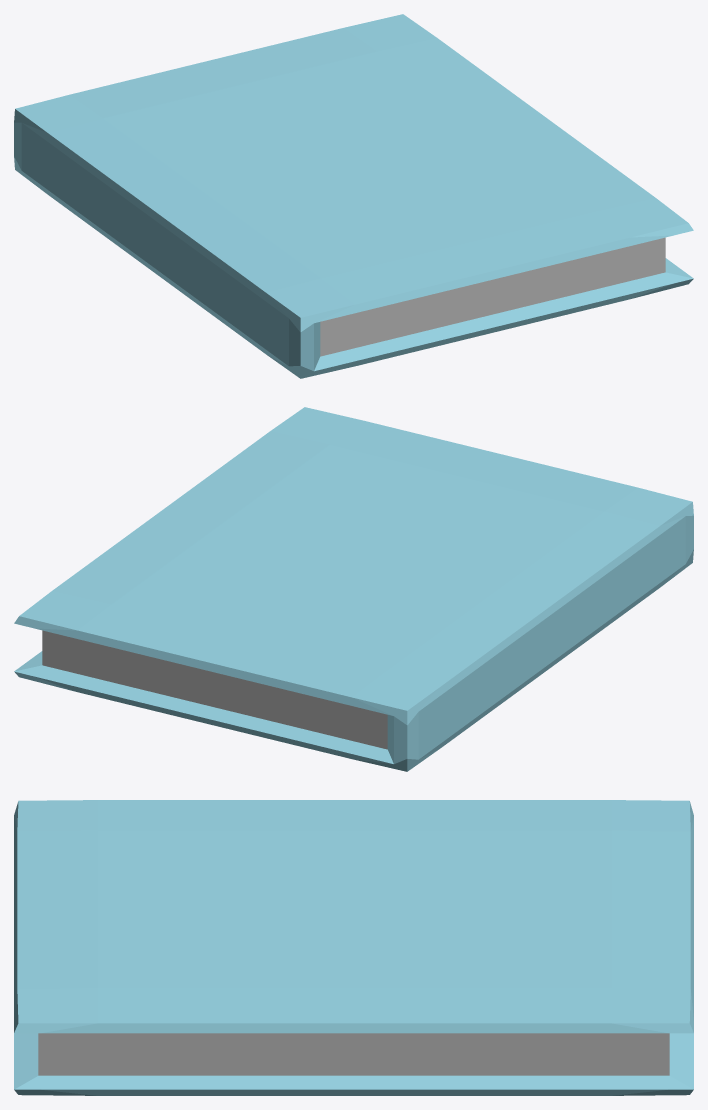
The model's file is BookVar1.fbx.
3 renders of one model, top to bottom at view 1: azimuth 30°, elevation 25°; view 2: azimuth 150°, elevation 25°; view 3: azimuth 270°, elevation 25°, orthographic. The views are drawn at different scales.
Visible parts, largest first — view 1: Book.005; view 2: Book.005; view 3: Book.005.
Part boxes in pixels (x1,y1,x2,y2): Book.005: (14,14,693,378); Book.005: (14,407,693,771); Book.005: (14,800,693,1095).
Bounding box in the file's own units: 280 × 220 × 34.
